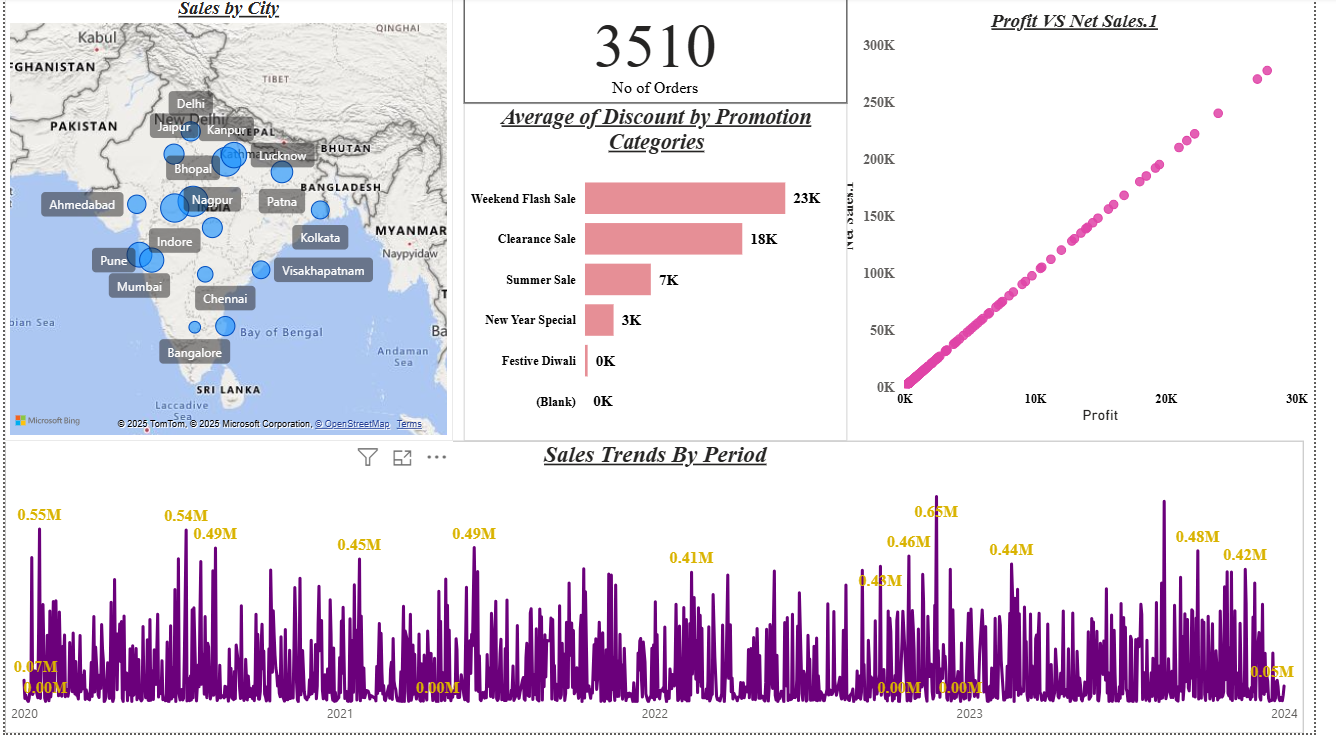

This screenshot's page, from the dashboard's own definition file:
{"tool":"powerbi","page":{"name":"Overview","canvas":[1280,720],"ordinal":0},"visuals":[{"type":"lineChart","title":"Sales Trends By Period","fields":{"Y":["Sum(Fact Table.Net Sales.1)"],"Category":["Fact Table.Date (dd/mm/yyyy).Variation.Date Hierarchy.Year"]},"box":[0,433.6,1270.7,286.8],"z":0},{"type":"scatterChart","title":"Profit VS Net Sales.1","fields":{"X":["Fact Table.Profit"],"Y":["Fact Table.Net Sales.1"]},"box":[813.7,12.3,466.6,410.3],"z":1000},{"type":"barChart","title":"Average of Discount by Promotion Categories","fields":{"Y":["Avg(Fact Table.Discount Value.1)"],"Category":["Dim Promotion.Promotion Name"]},"box":[448.8,103.9,375.4,330.2],"z":2000},{"type":"map","title":" Sales by City","fields":{"Category":["Dim Customers.City"],"Size":["Sum(Fact Table.Net Sales.1)"]},"box":[0,0,437.8,434.1],"z":3000},{"type":"card","fields":{"Values":["Count(Fact Table.Order Id)"]},"box":[448.8,0,375.4,103.9],"z":4000}]}

Visuals, with their boxes in screenshot pixels (x1, y1, x2, y2), scaled from the page's 1280x720 canvas onto the 1336x735 screenshot:
"Sales Trends By Period" lineChart: box=[0, 443, 1326, 734]
"Profit VS Net Sales.1" scatterChart: box=[849, 13, 1335, 431]
"Average of Discount by Promotion Categories" barChart: box=[468, 106, 860, 443]
" Sales by City" map: box=[0, 0, 457, 443]
card - Count(Fact Table.Order Id): box=[468, 0, 860, 106]
